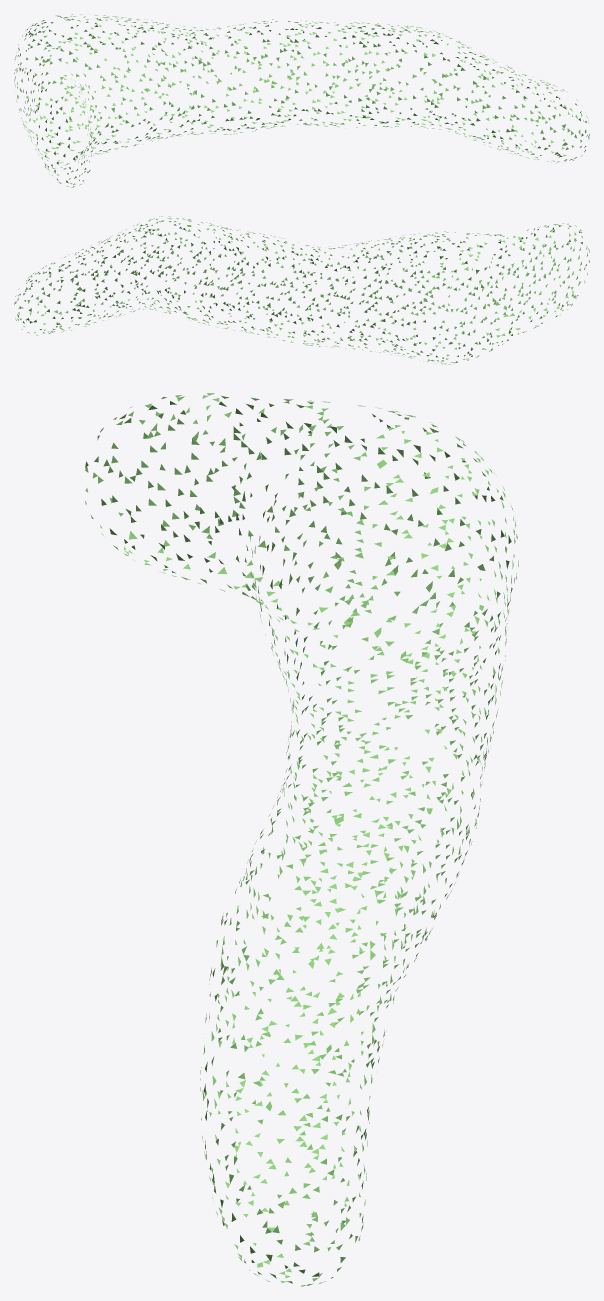
The model's file is morph_015.glb.
3 views of the same model, one above another, from view 1: azimuth 30°, elevation 25°; view 2: azimuth 150°, elevation 25°; view 3: azimuth 270°, elevation 25° (orthographic). The views are drawn at different scales.
Bounding box in the file's own units: 107 × 42.19 × 38.32.
